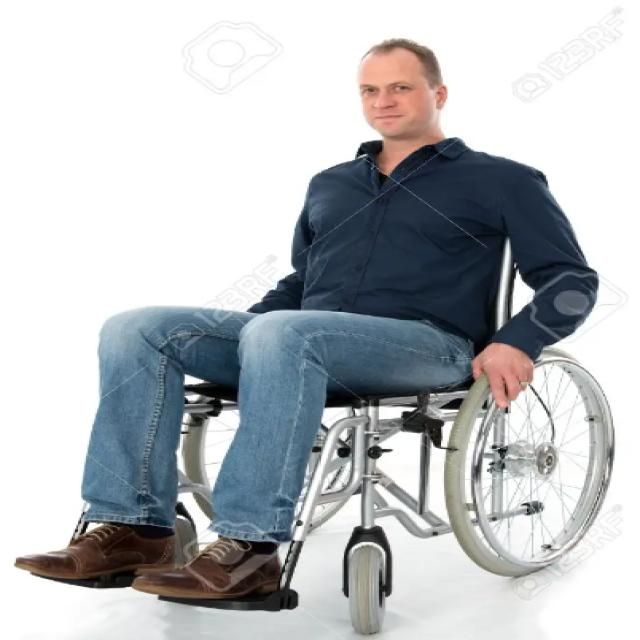wheelchair: (42, 36, 617, 633)
